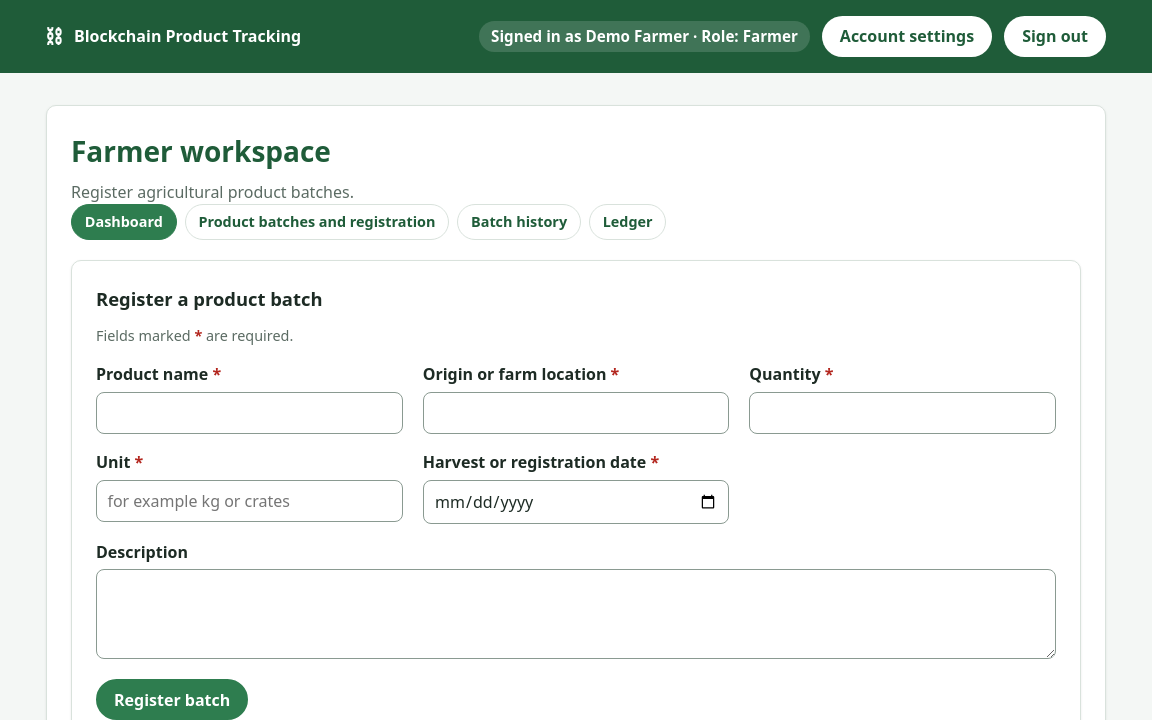
Test: Farmer batch registration in the app › submits a valid batch, shows the confirmation and details, and refreshes the list
The width and height of the screenshot is (1152, 720).
Check: the button "Register batch" is shown, box [96,679,248,719]
In the field labelled "Product name *": (249, 413) [96,392,403,434], type "Basmati Rice"
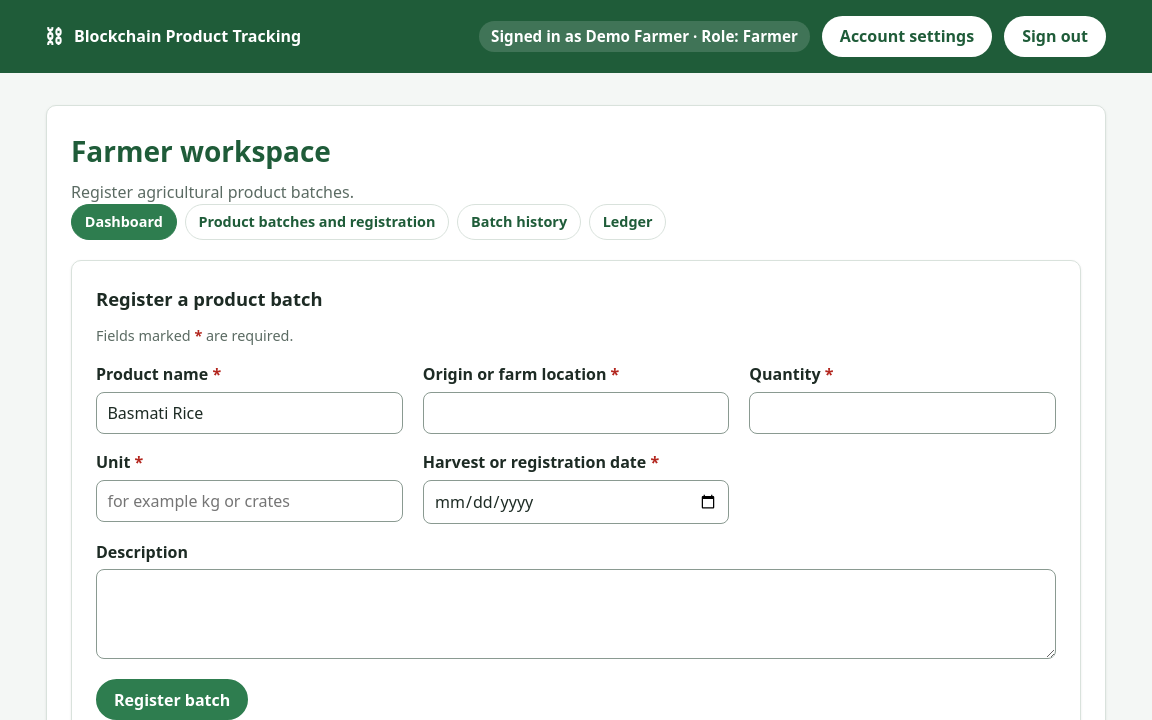
In the field labelled "Origin or farm location *": (576, 413) [423,392,729,434], type "Green Valley Farm"
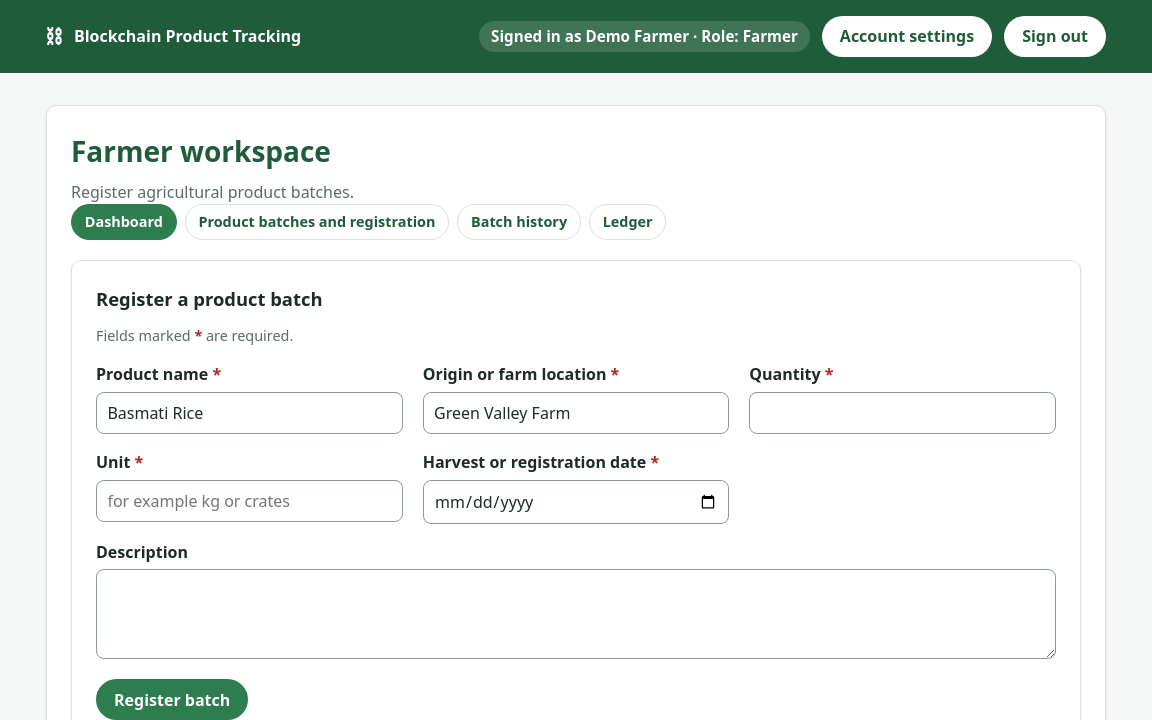
In the number field labelled "Quantity *": (903, 413) [749,392,1056,434], type "250"
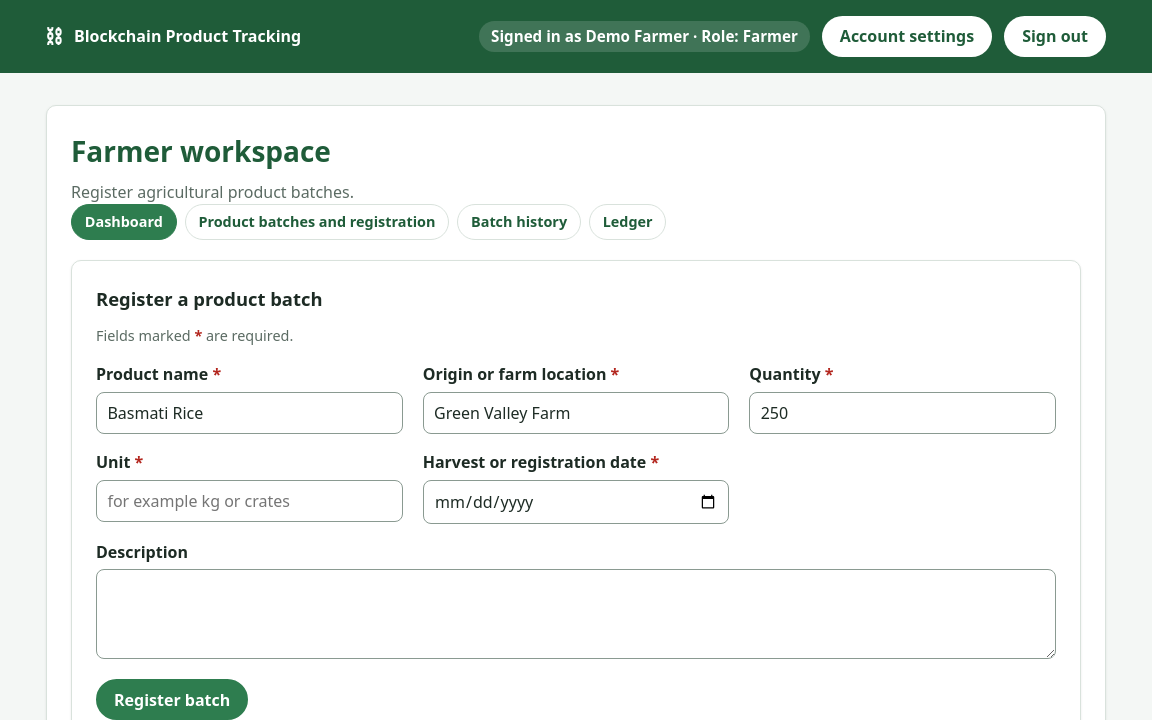
In the field labelled "Unit *": (249, 501) [96,480,403,522], type "kg"
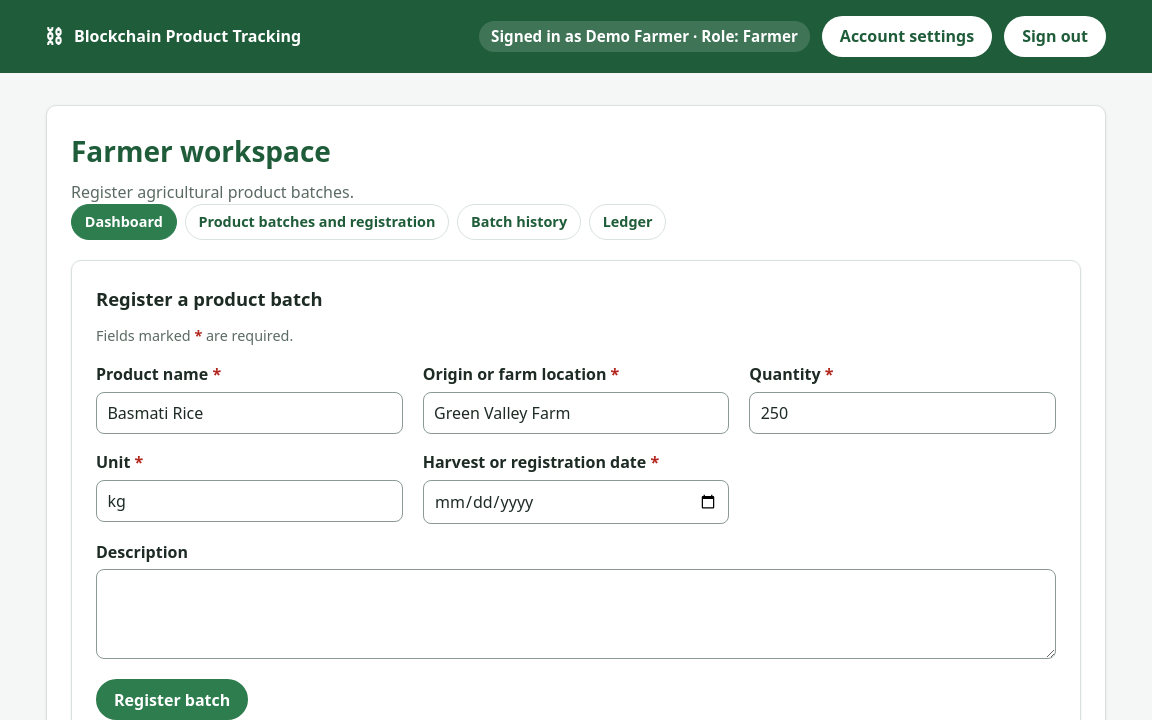
In the date field labelled "Harvest or registration date *": (576, 502) [423,480,729,524], type "2026-10-15"
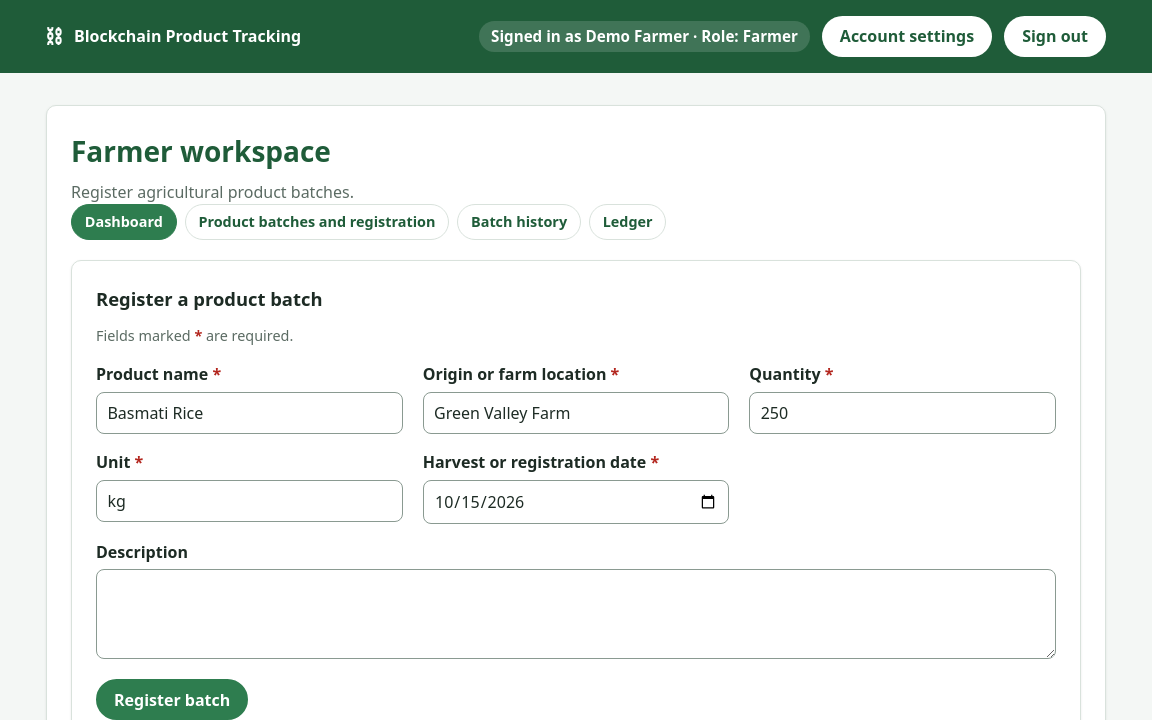
Click the button "Register batch": click(172, 700) [96,679,248,719]
(page scrolled)
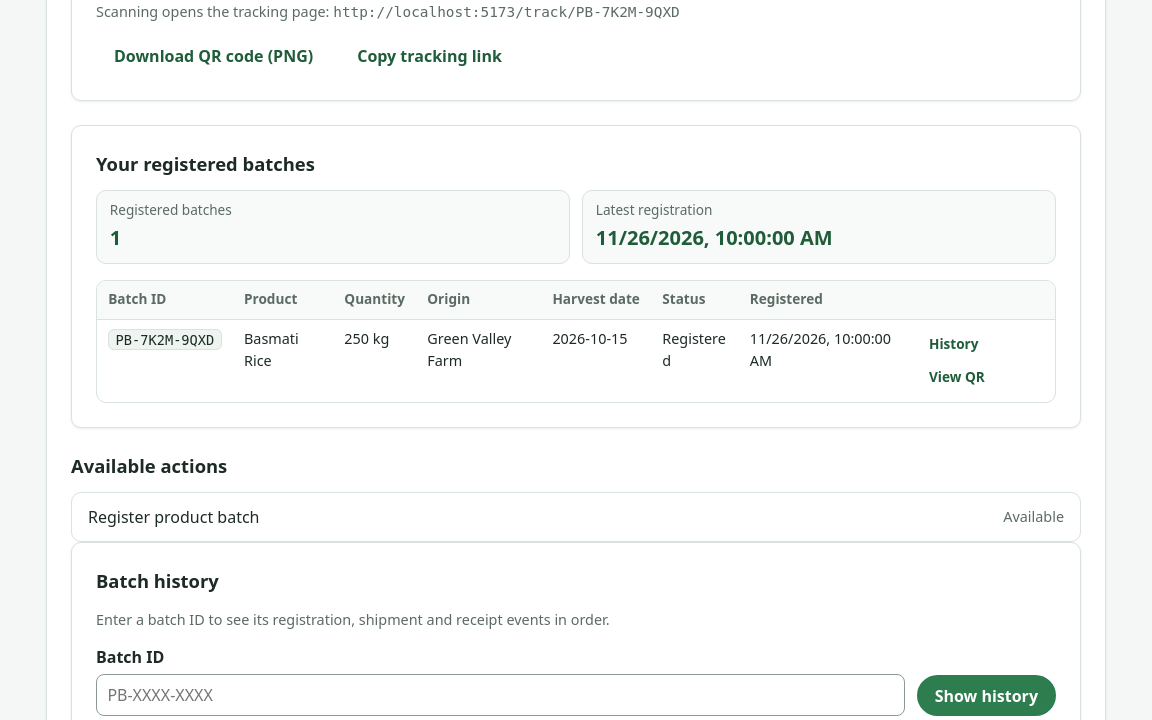
Check: the text "Basmati Rice" is shown, box [233,320,333,402]
